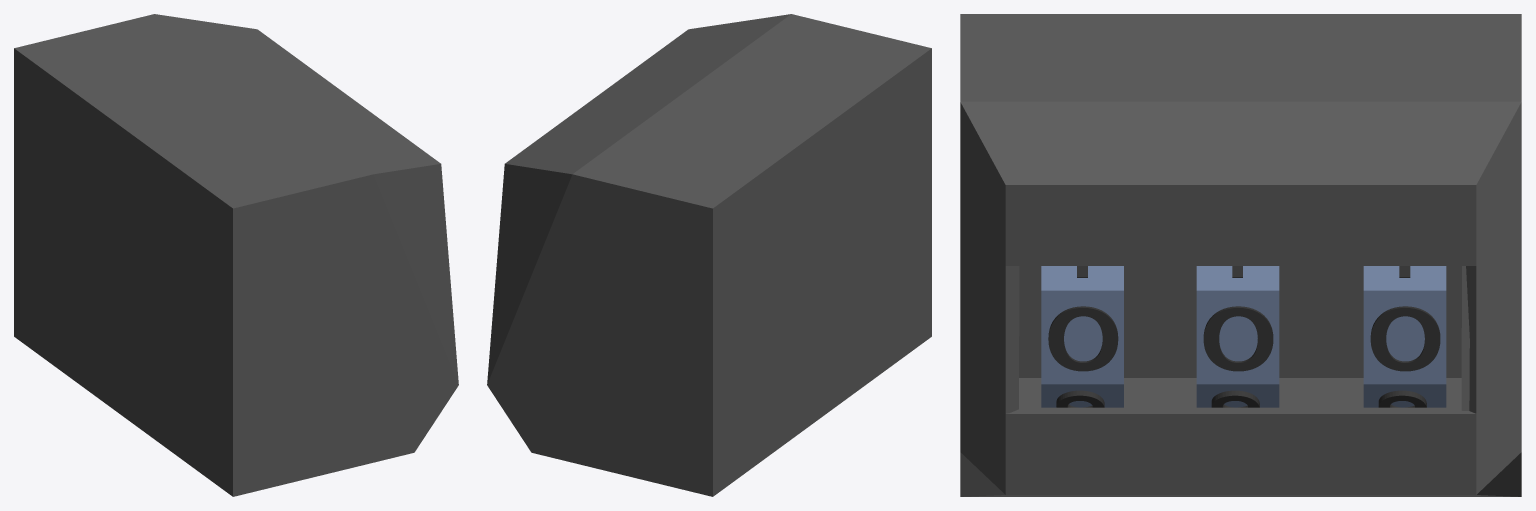
The model's file is dial.fbx.
The picture shows the model from 3 angles, left to right: view 1: azimuth 30°, elevation 25°; view 2: azimuth 150°, elevation 25°; view 3: azimuth 270°, elevation 25°; orthographic projection. The views are drawn at different scales.
Parts seen in each view (by area): view 1: Cube; view 2: Cube; view 3: Cube, Cylinder.002, Cylinder.001, Cylinder, Text, Text.020, Text.019, Text.029, Text.010, Text.009.
Part boxes in pixels (bbox=[...]): Cube: bbox=[14, 14, 458, 496]; Cube: bbox=[487, 14, 931, 496]; Cube: bbox=[960, 14, 1521, 496]; Cylinder.002: bbox=[1363, 266, 1446, 407]; Cylinder.001: bbox=[1196, 266, 1279, 407]; Cylinder: bbox=[1041, 266, 1123, 407]; Text: bbox=[1048, 306, 1118, 371]; Text.020: bbox=[1370, 306, 1440, 371]; Text.019: bbox=[1203, 306, 1273, 371]; Text.029: bbox=[1378, 390, 1426, 407]; Text.010: bbox=[1211, 390, 1259, 407]; Text.009: bbox=[1056, 390, 1104, 407].
Bounding box in the file's own units: 200 × 244 × 336.
